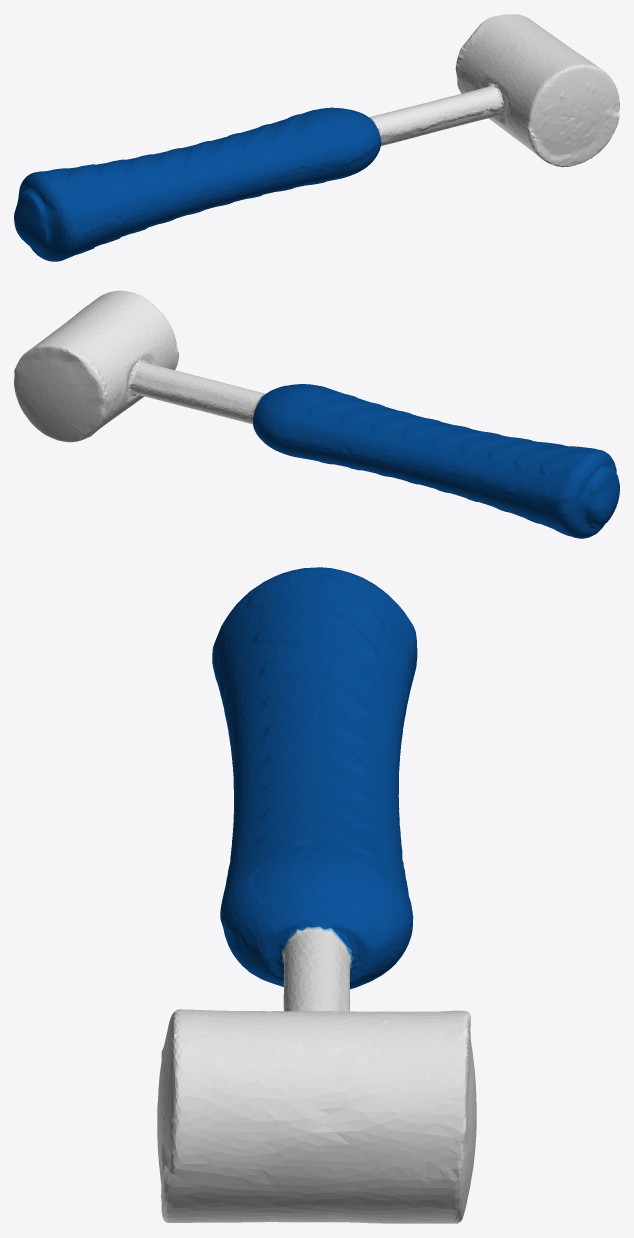
The model's file is Hammer colored.fbx.
The picture shows the model from 3 angles, top to bottom: view 1: azimuth 30°, elevation 25°; view 2: azimuth 150°, elevation 25°; view 3: azimuth 270°, elevation 25°; orthographic projection. The views are drawn at different scales.
Parts seen in each view (by area): view 1: node_id29; view 2: node_id29; view 3: node_id29.
Boxes of the visible parts, x1,y1,x2,y2 form: node_id29: [14, 14, 619, 261]; node_id29: [14, 290, 619, 538]; node_id29: [157, 567, 476, 1223].
Bounding box in the file's own units: 143 × 23.62 × 35.13.
